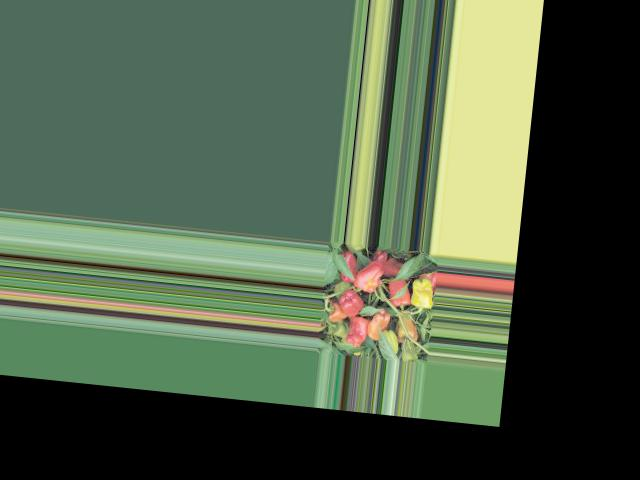bell_pepper: (325, 306, 346, 323)
